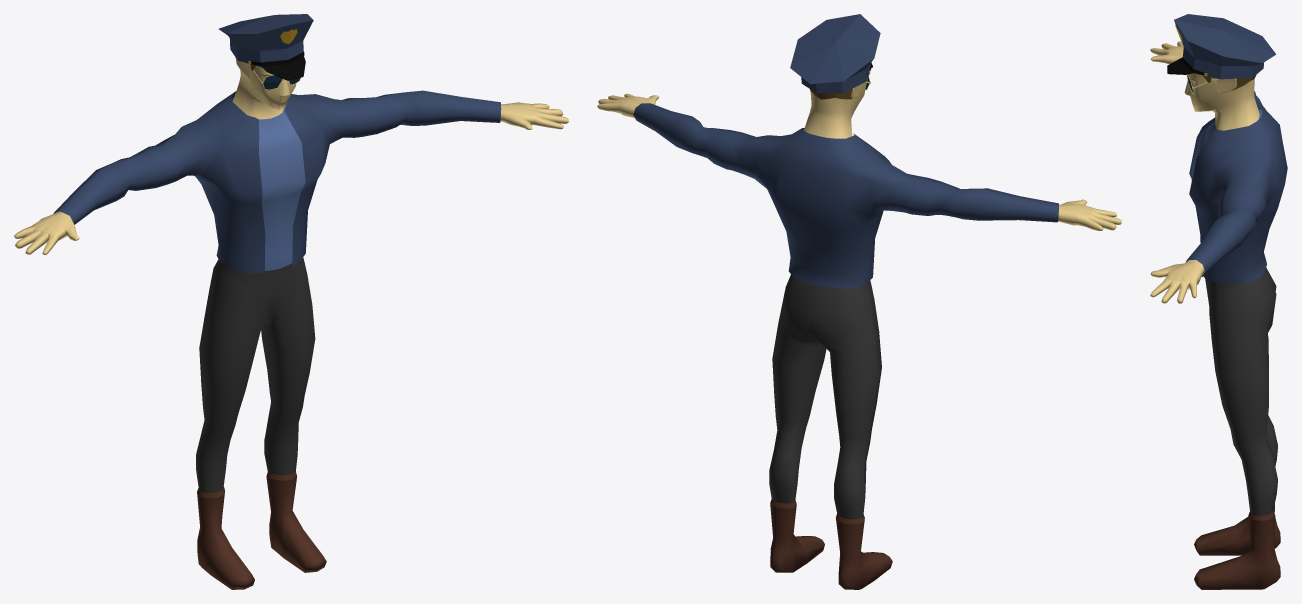
File: Policeman.fbx
3 views of the same model, side by side, from view 1: azimuth 30°, elevation 25°; view 2: azimuth 150°, elevation 25°; view 3: azimuth 270°, elevation 25° (orthographic). The views are drawn at different scales.
Visible parts, largest first — view 1: Police; view 2: Police; view 3: Police.
Boxes of the visible parts, x1,y1,x2,y2 form: Police: (14,14,568,589); Police: (597,14,1121,589); Police: (1150,14,1287,589).
Bounding box in the file's own units: 190 × 187 × 42.51.
